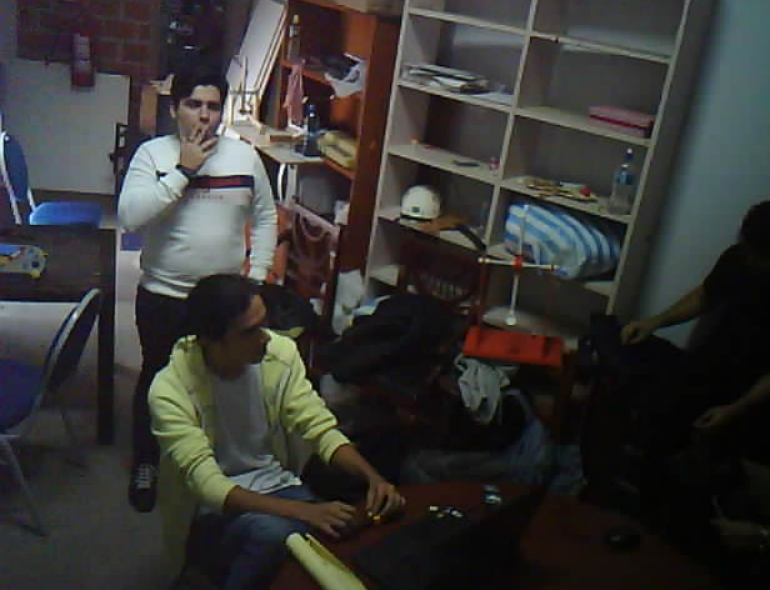person: (127, 265, 415, 590), (95, 36, 267, 519), (585, 176, 770, 517)
